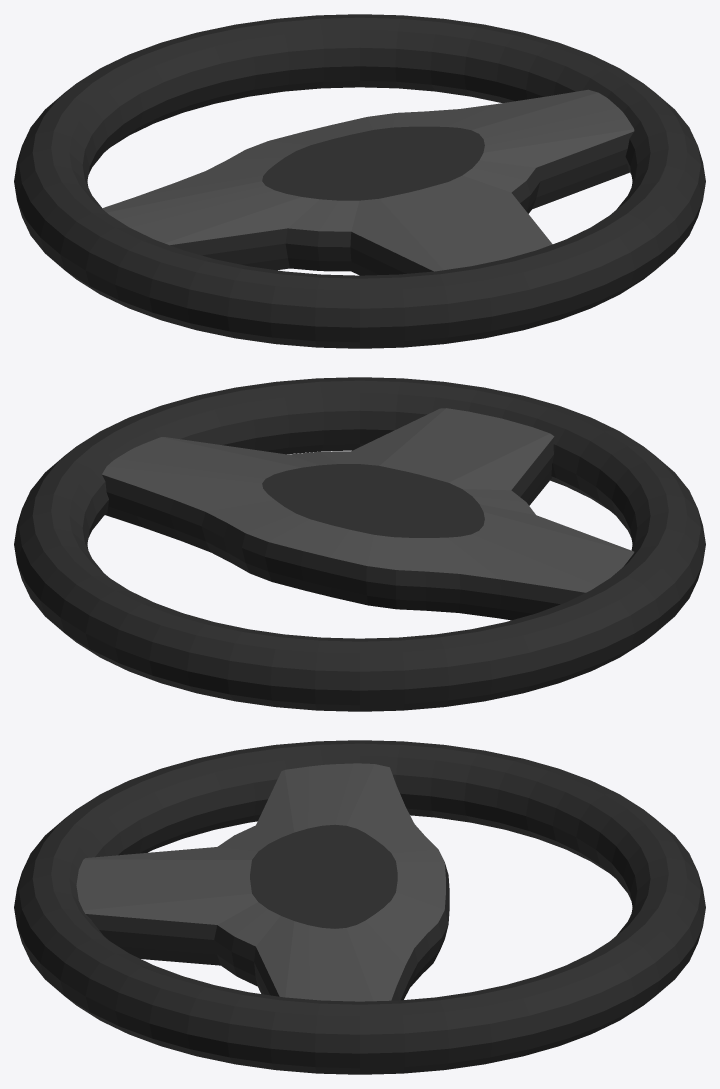
Rendered from CarHandle.fbx.
3 renders of one model, top to bottom at view 1: azimuth 30°, elevation 25°; view 2: azimuth 150°, elevation 25°; view 3: azimuth 270°, elevation 25°, orthographic.
Parts seen in each view (by area): view 1: handle; view 2: handle; view 3: handle.
Part boxes in pixels (x1,y1,x2,y2): handle: (14, 14, 705, 348); handle: (14, 377, 705, 711); handle: (14, 740, 705, 1074).
Bounding box in the file's own units: 38.04 × 4.04 × 38.04.
